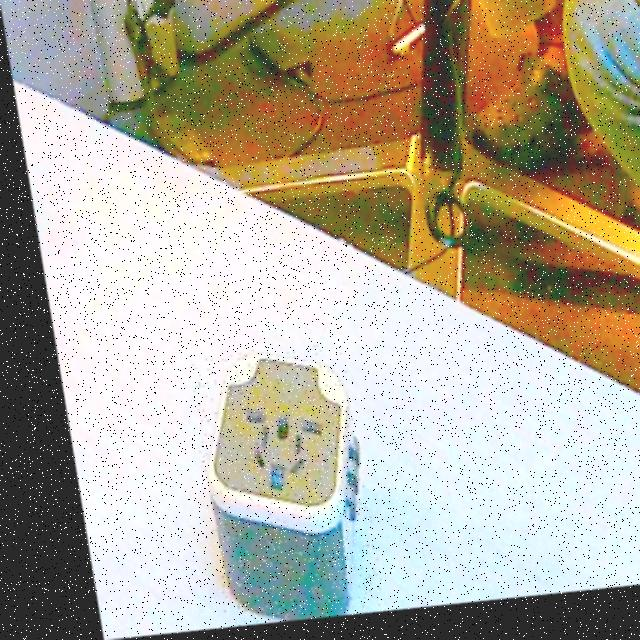adapter: (171, 347, 364, 630)
